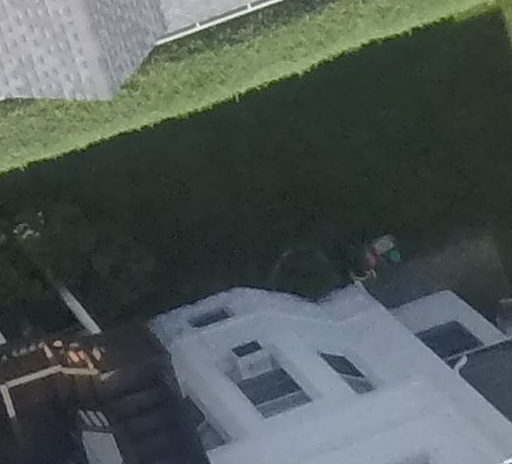container: (386, 248, 404, 263)
flower pot: (342, 263, 373, 285)
